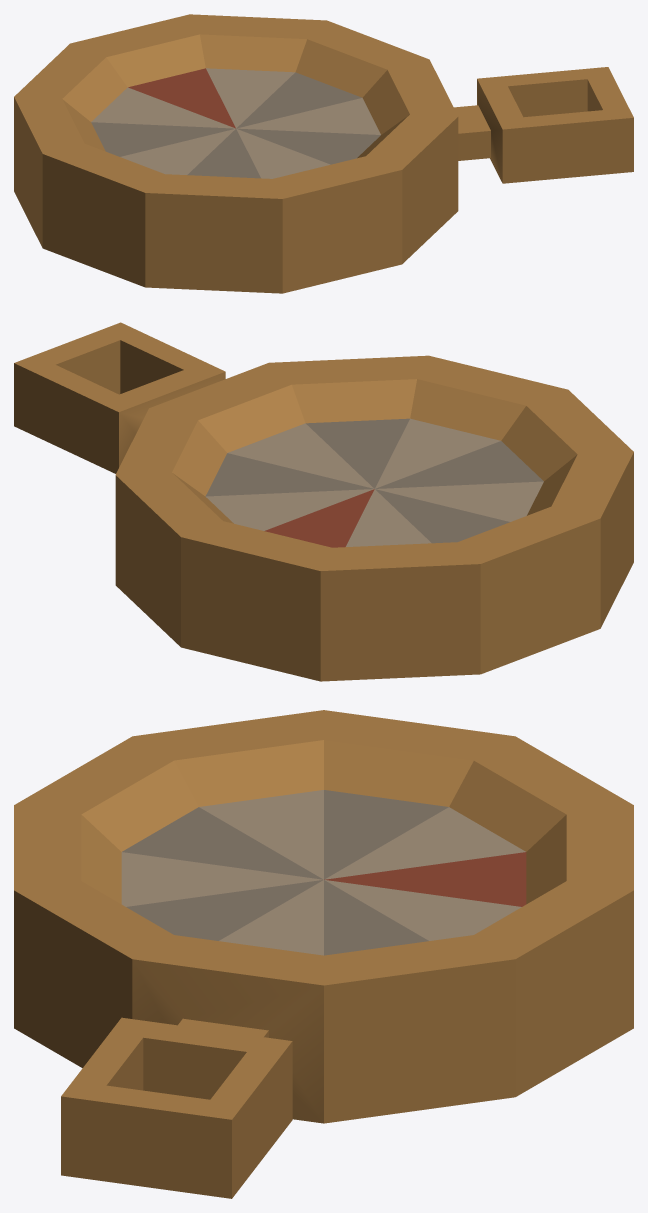
Rendered from SM_Item_Compass_01.glb.
3 views of the same model, one above another, from view 1: azimuth 30°, elevation 25°; view 2: azimuth 150°, elevation 25°; view 3: azimuth 270°, elevation 25° (orthographic). The views are drawn at different scales.
Visible parts, largest first — view 1: SM_Item_Compass_01; view 2: SM_Item_Compass_01; view 3: SM_Item_Compass_01.
Part boxes in pixels (x1=…): SM_Item_Compass_01: x1=14, y1=14, x2=633, y2=293; SM_Item_Compass_01: x1=14, y1=322, x2=633, y2=681; SM_Item_Compass_01: x1=14, y1=710, x2=633, y2=1198.
Size of the model in its own units: 0.00176 by 0.000299 by 0.00122.
